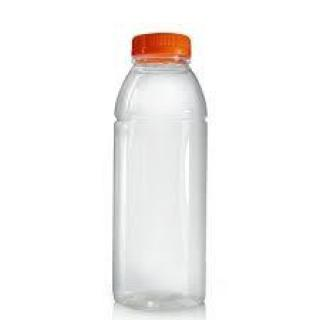Plastic-bottle: (109, 30, 212, 313)
